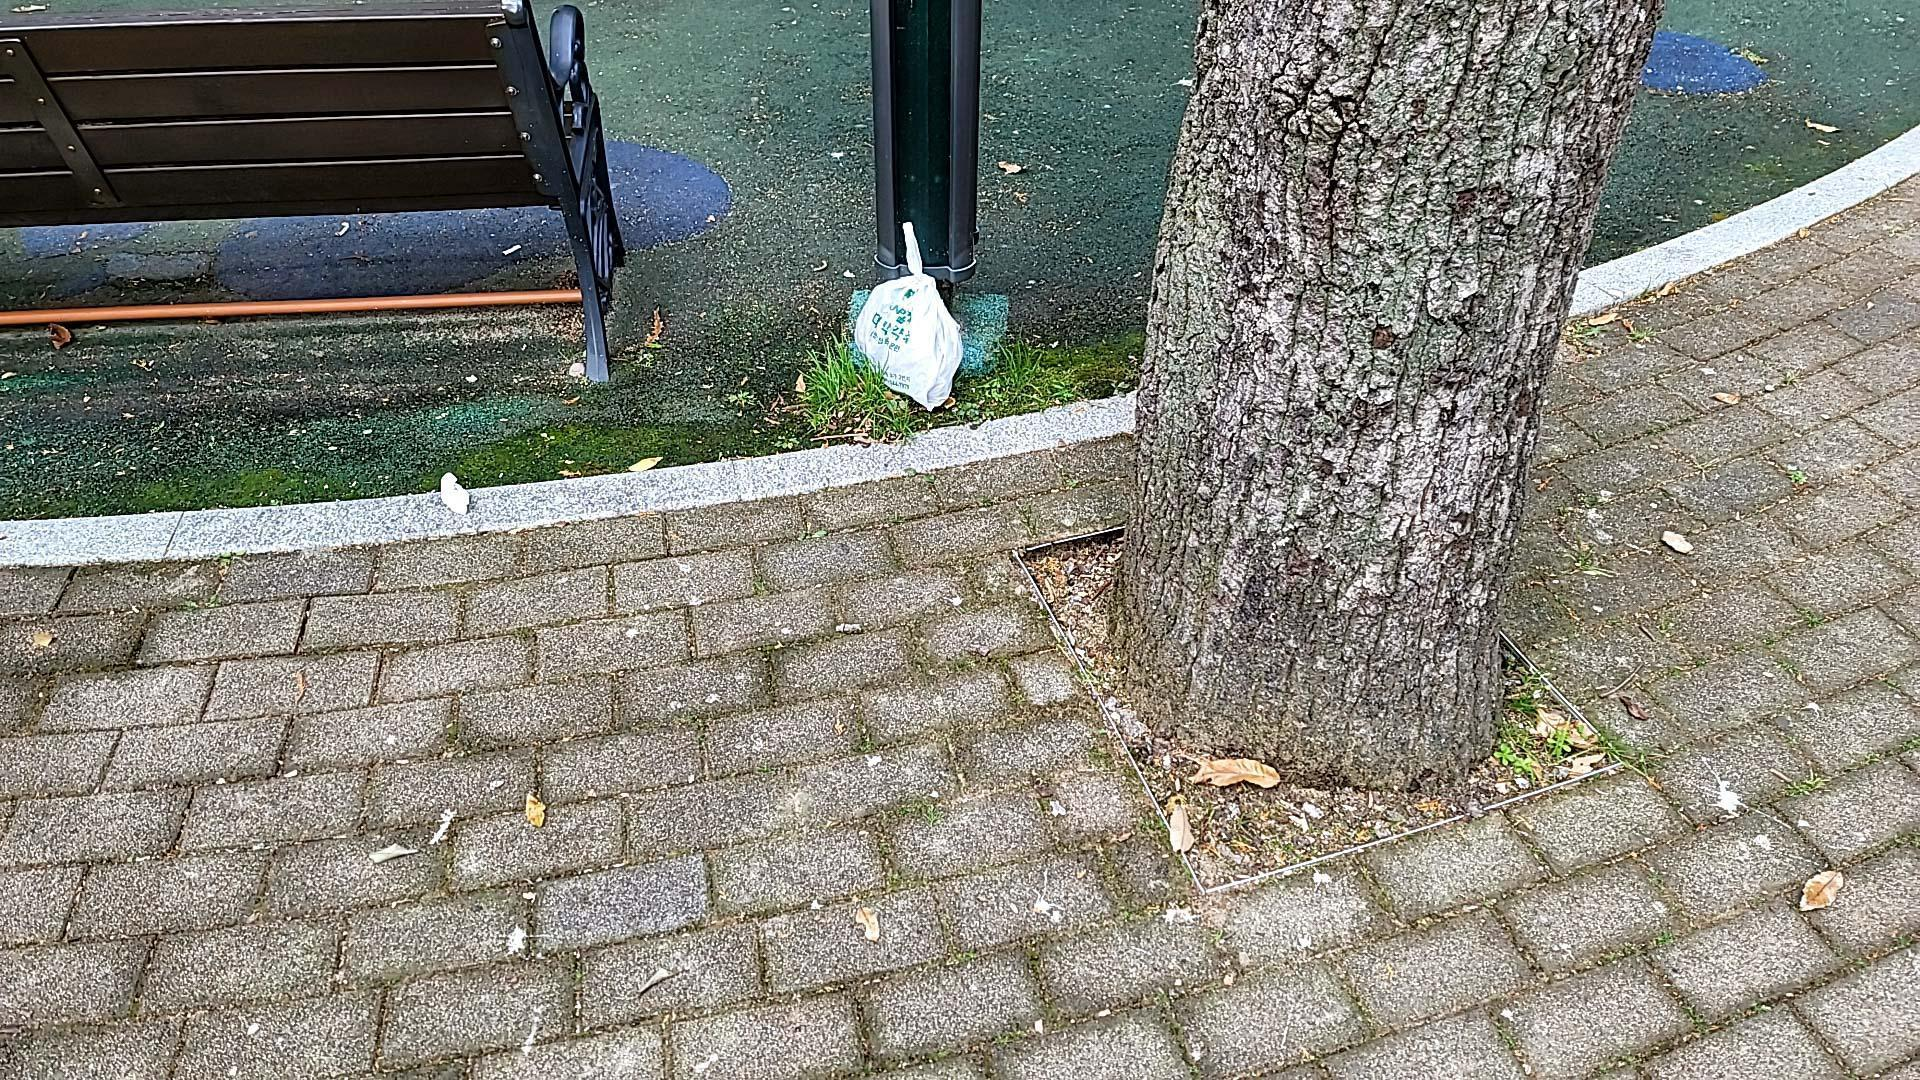white_bag: (825, 218, 977, 415)
